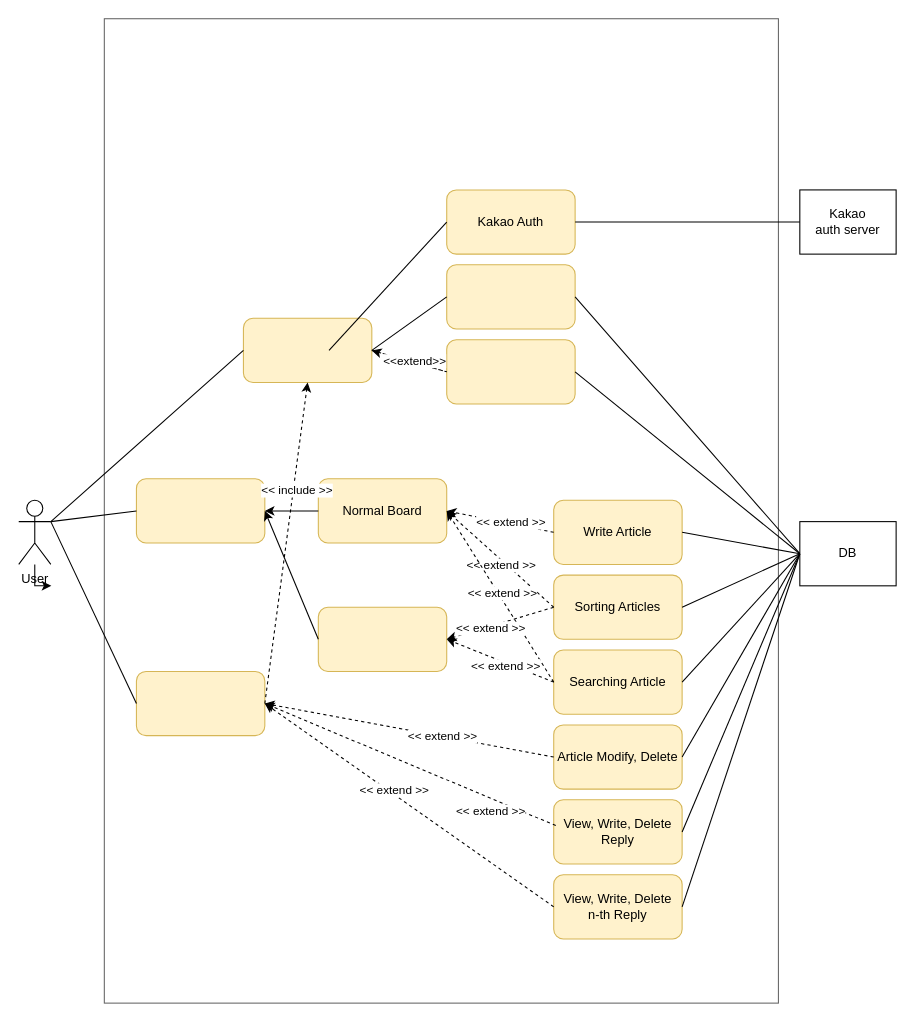
This 915x1022 diagram has some shape labels left out. Each missing label, with the box of its shape:
DB Auth: (446, 264, 575, 329)
Hashtag Board: (317, 606, 447, 671)
Login: (242, 317, 372, 383)
Login Fail: (446, 339, 575, 404)
view Article: (135, 670, 265, 736)
view Board: (135, 478, 265, 543)
